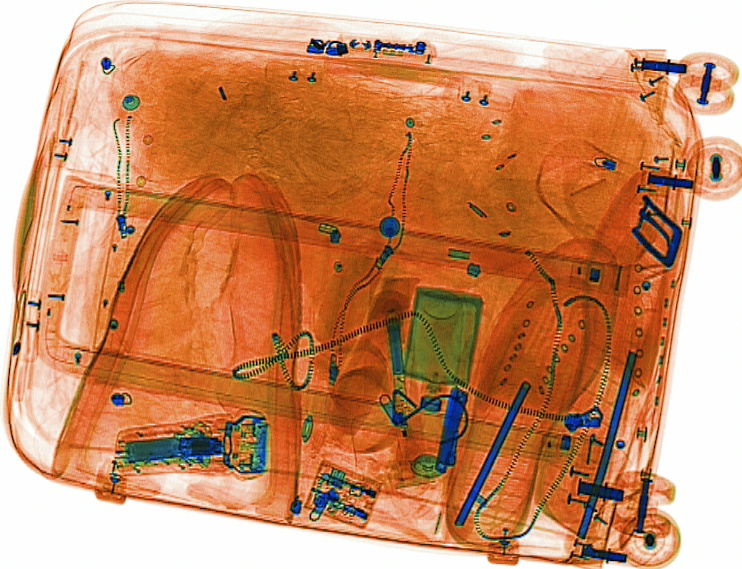pressure: (398, 286, 467, 481)
